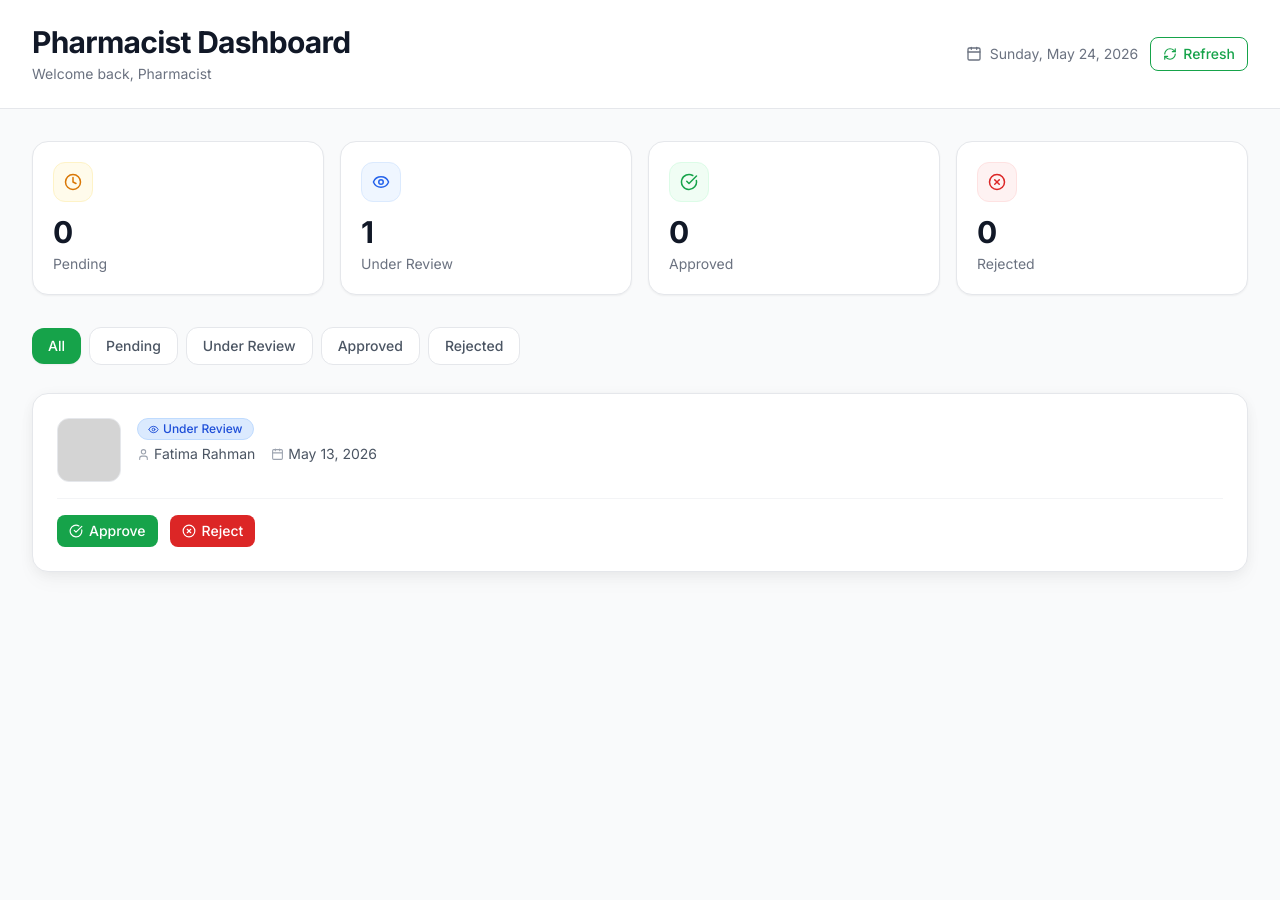
Scenario: Approve validation › shows error when submitting without medicines
Click the button with test id "approve-btn" at x=107, y=531, box 57,515 -> 158,547
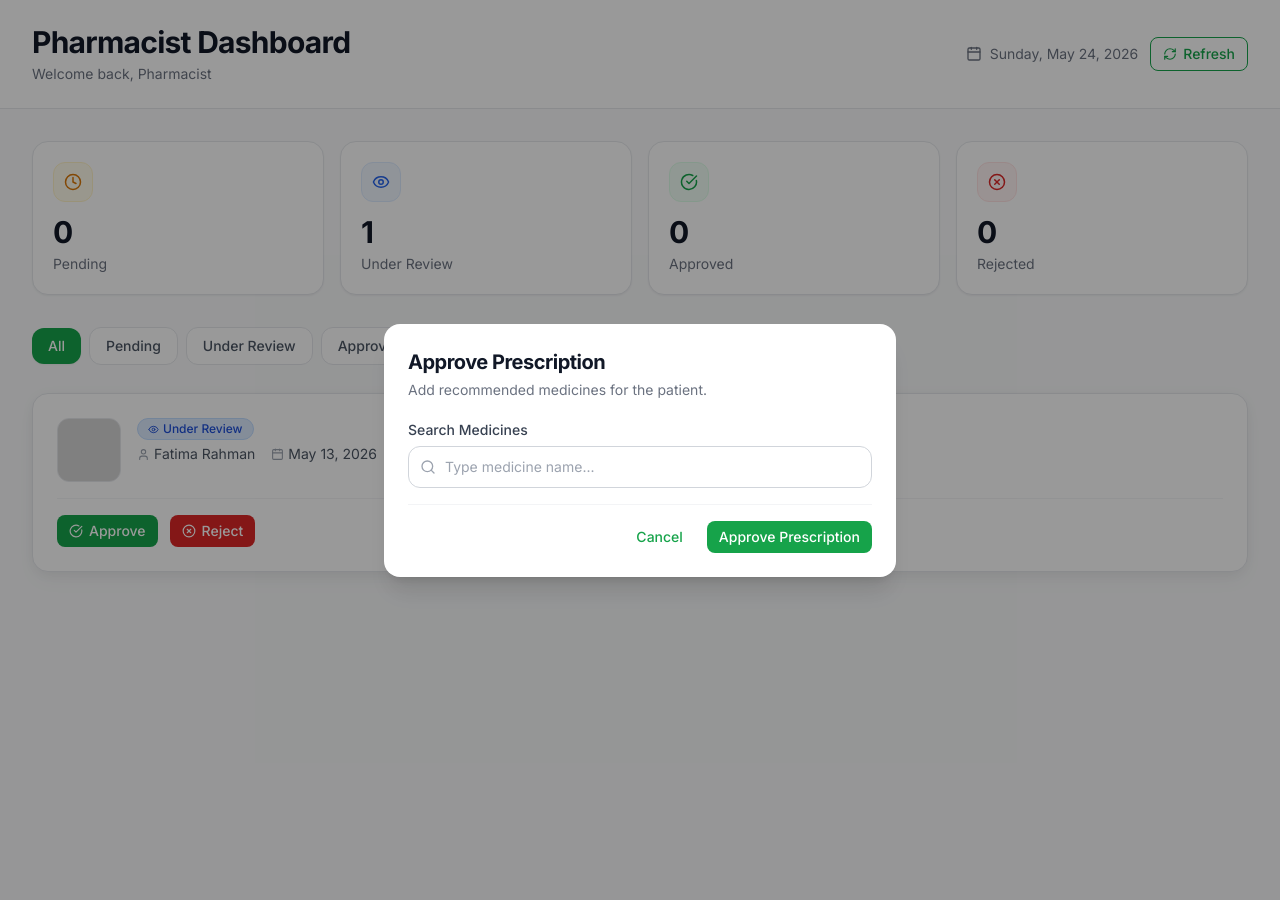
Click the button with test id "submit-approve-btn" at x=789, y=536, box 707,520 -> 872,552
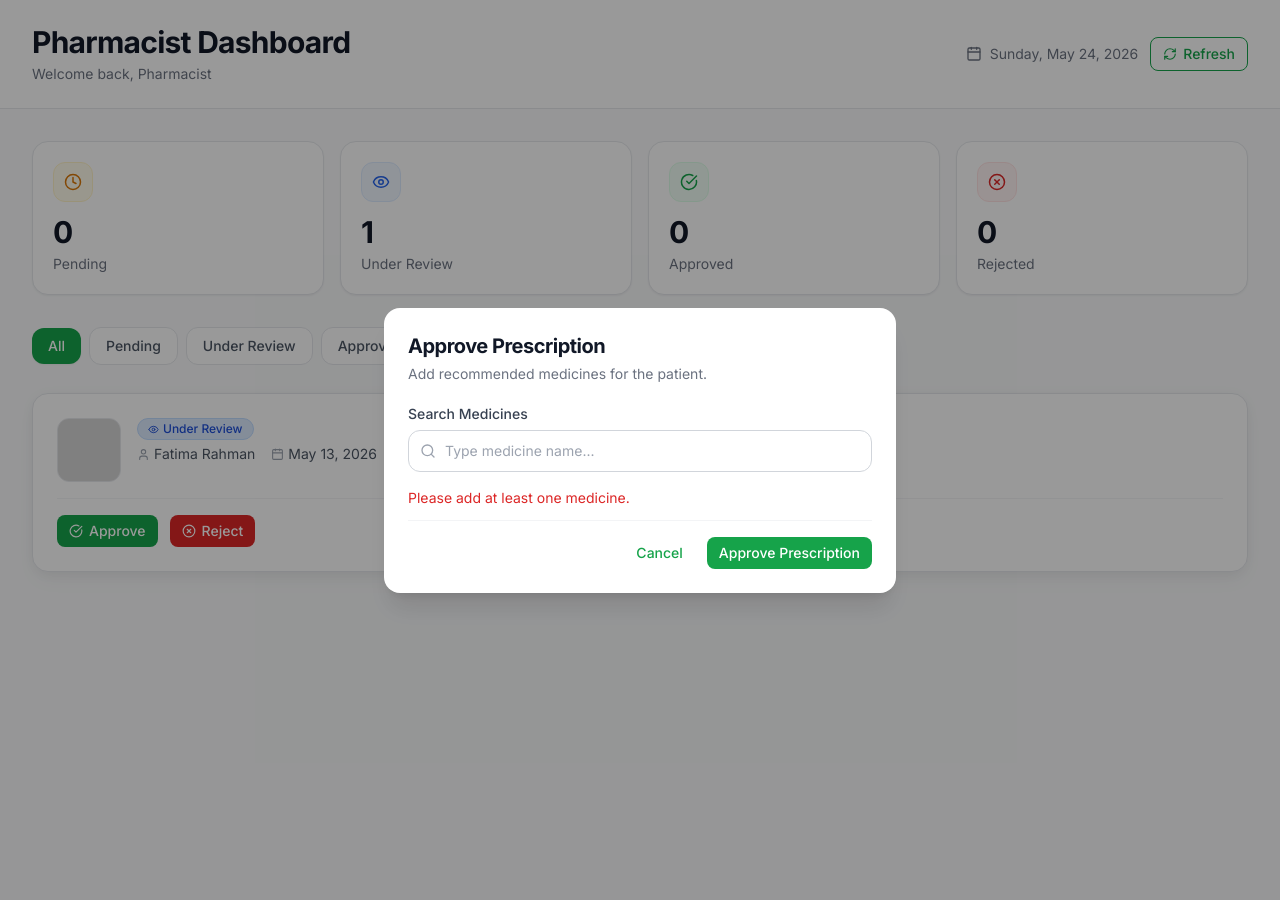
Now the text "Please add at least one medicine." is shown, box 408,488 -> 630,506
